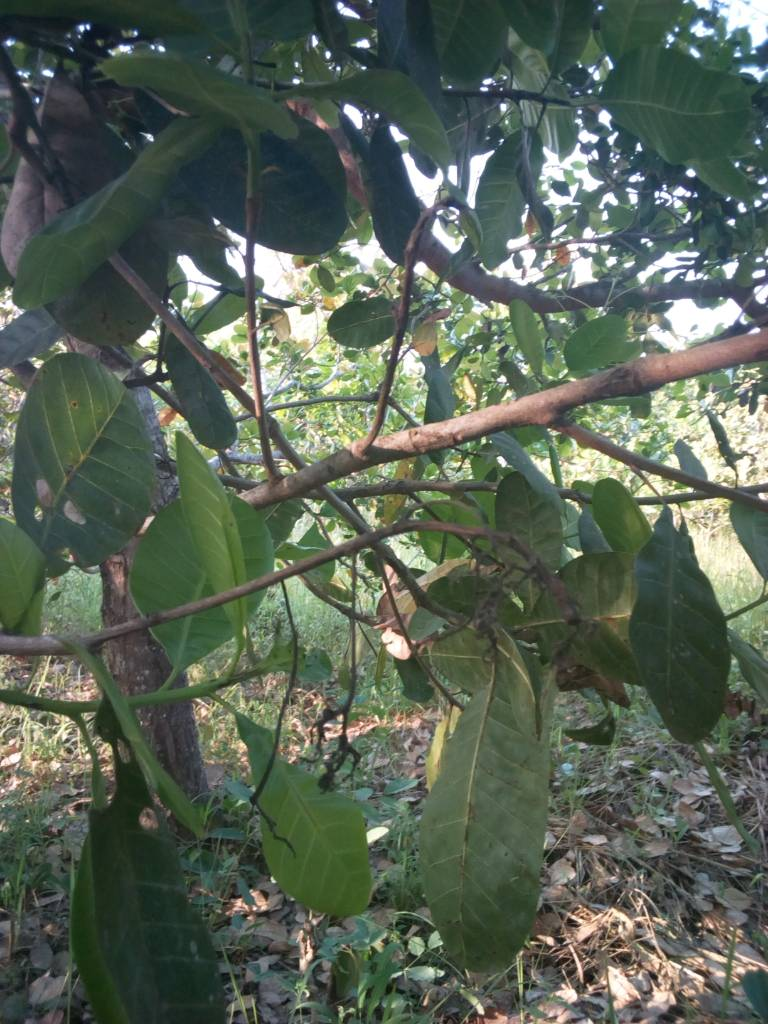Dessèchement des bourgeons: (465, 522, 604, 669), (311, 705, 365, 786)
